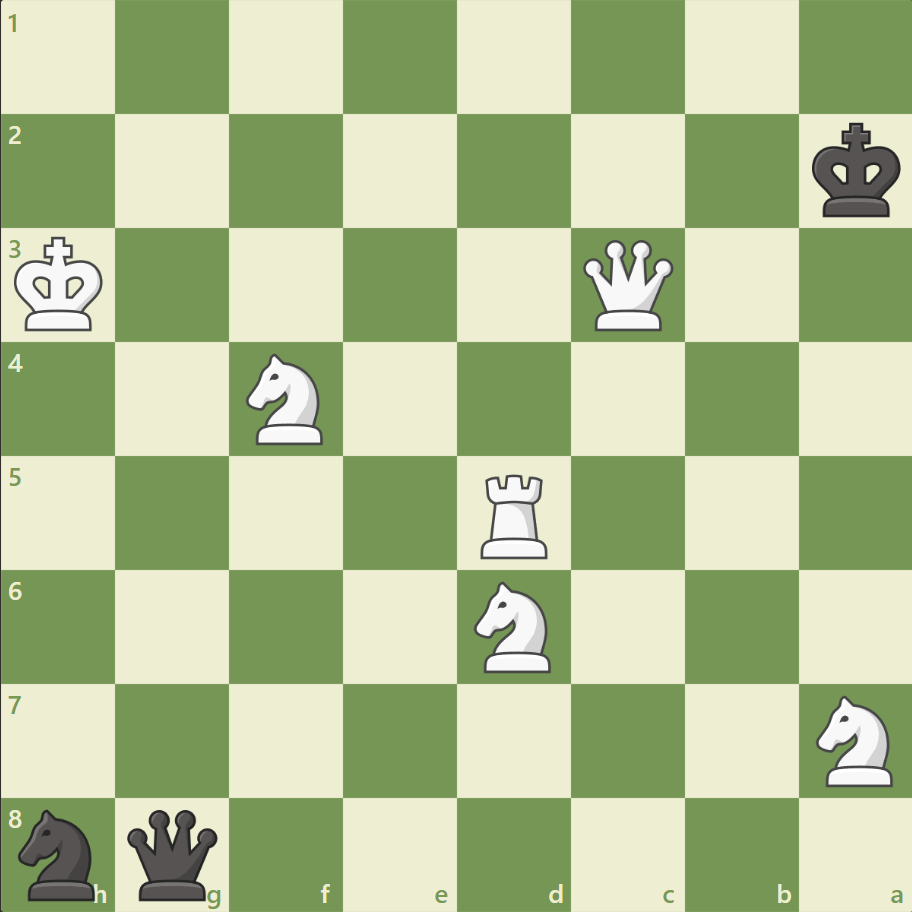K: (11, 231, 111, 339)
N: (806, 688, 903, 791), (465, 575, 562, 677), (238, 348, 335, 450)
Q: (578, 236, 677, 335)
R: (473, 466, 556, 563)
k: (806, 117, 906, 225)
n: (11, 802, 108, 904)
q: (124, 804, 223, 903)
